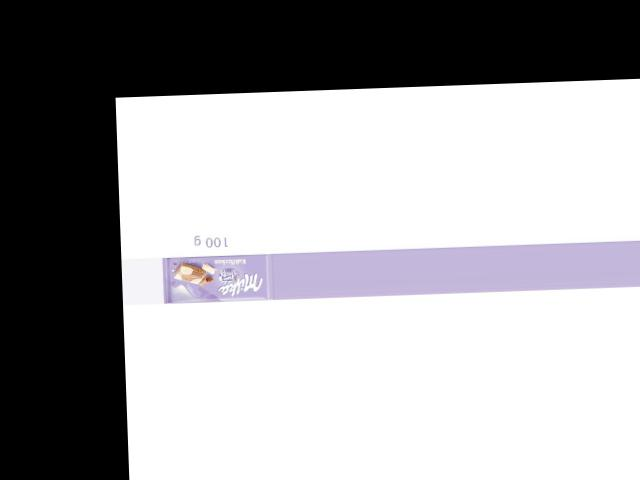chocolate: (160, 246, 273, 305)
